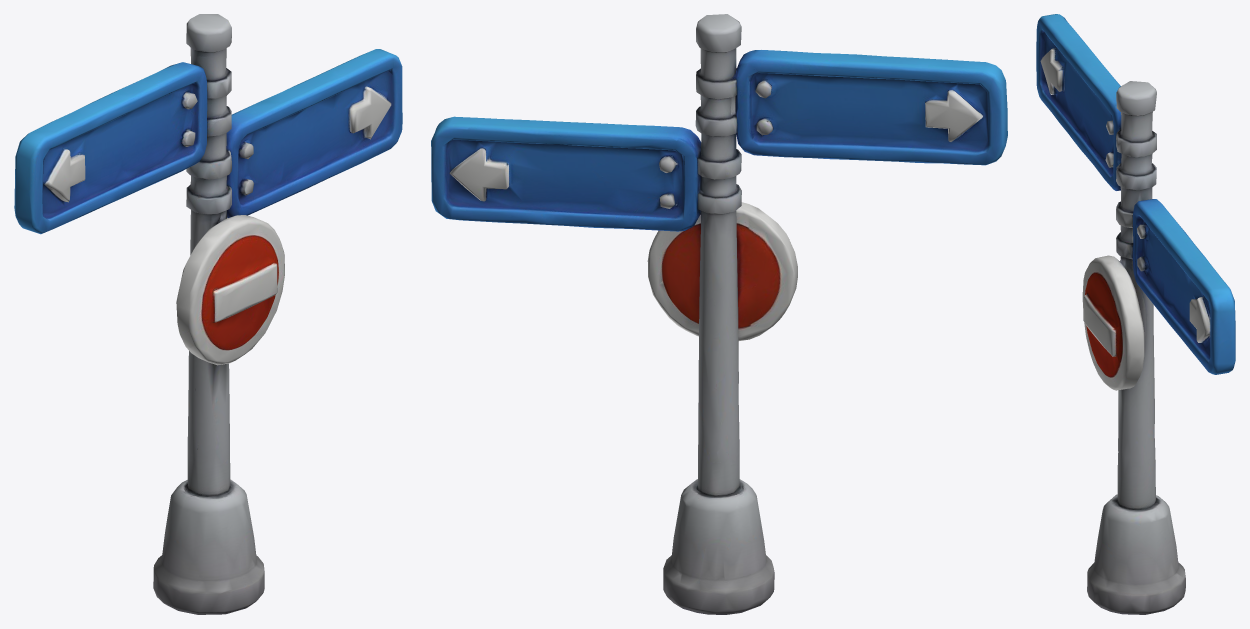
File: CenarioPlaca.glb
3 renders of one model, left to right at view 1: azimuth 30°, elevation 25°; view 2: azimuth 150°, elevation 25°; view 3: azimuth 270°, elevation 25°, orthographic. The views are drawn at different scales.
Parts seen in each view (by area): view 1: tripo_node_9efbc023-0675-401a-9b19-92e00162d157; view 2: tripo_node_9efbc023-0675-401a-9b19-92e00162d157; view 3: tripo_node_9efbc023-0675-401a-9b19-92e00162d157.
Boxes of the visible parts, left/top/right/bottom form: tripo_node_9efbc023-0675-401a-9b19-92e00162d157: left=14, top=14, right=402, bottom=614; tripo_node_9efbc023-0675-401a-9b19-92e00162d157: left=431, top=14, right=1007, bottom=614; tripo_node_9efbc023-0675-401a-9b19-92e00162d157: left=1036, top=14, right=1235, bottom=614.
Size of the model in its own units: 0.3487 by 0.4 by 0.142.
Materials: 1 (1 with a texture image).
